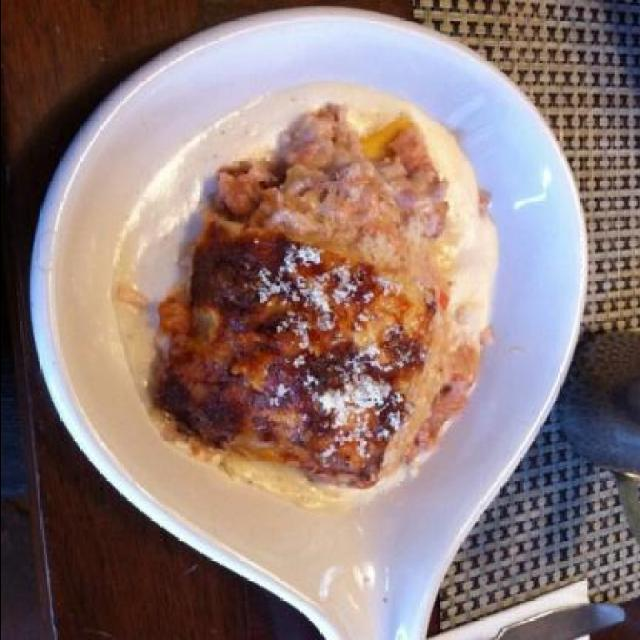Lasagna: (138, 120, 494, 518)
